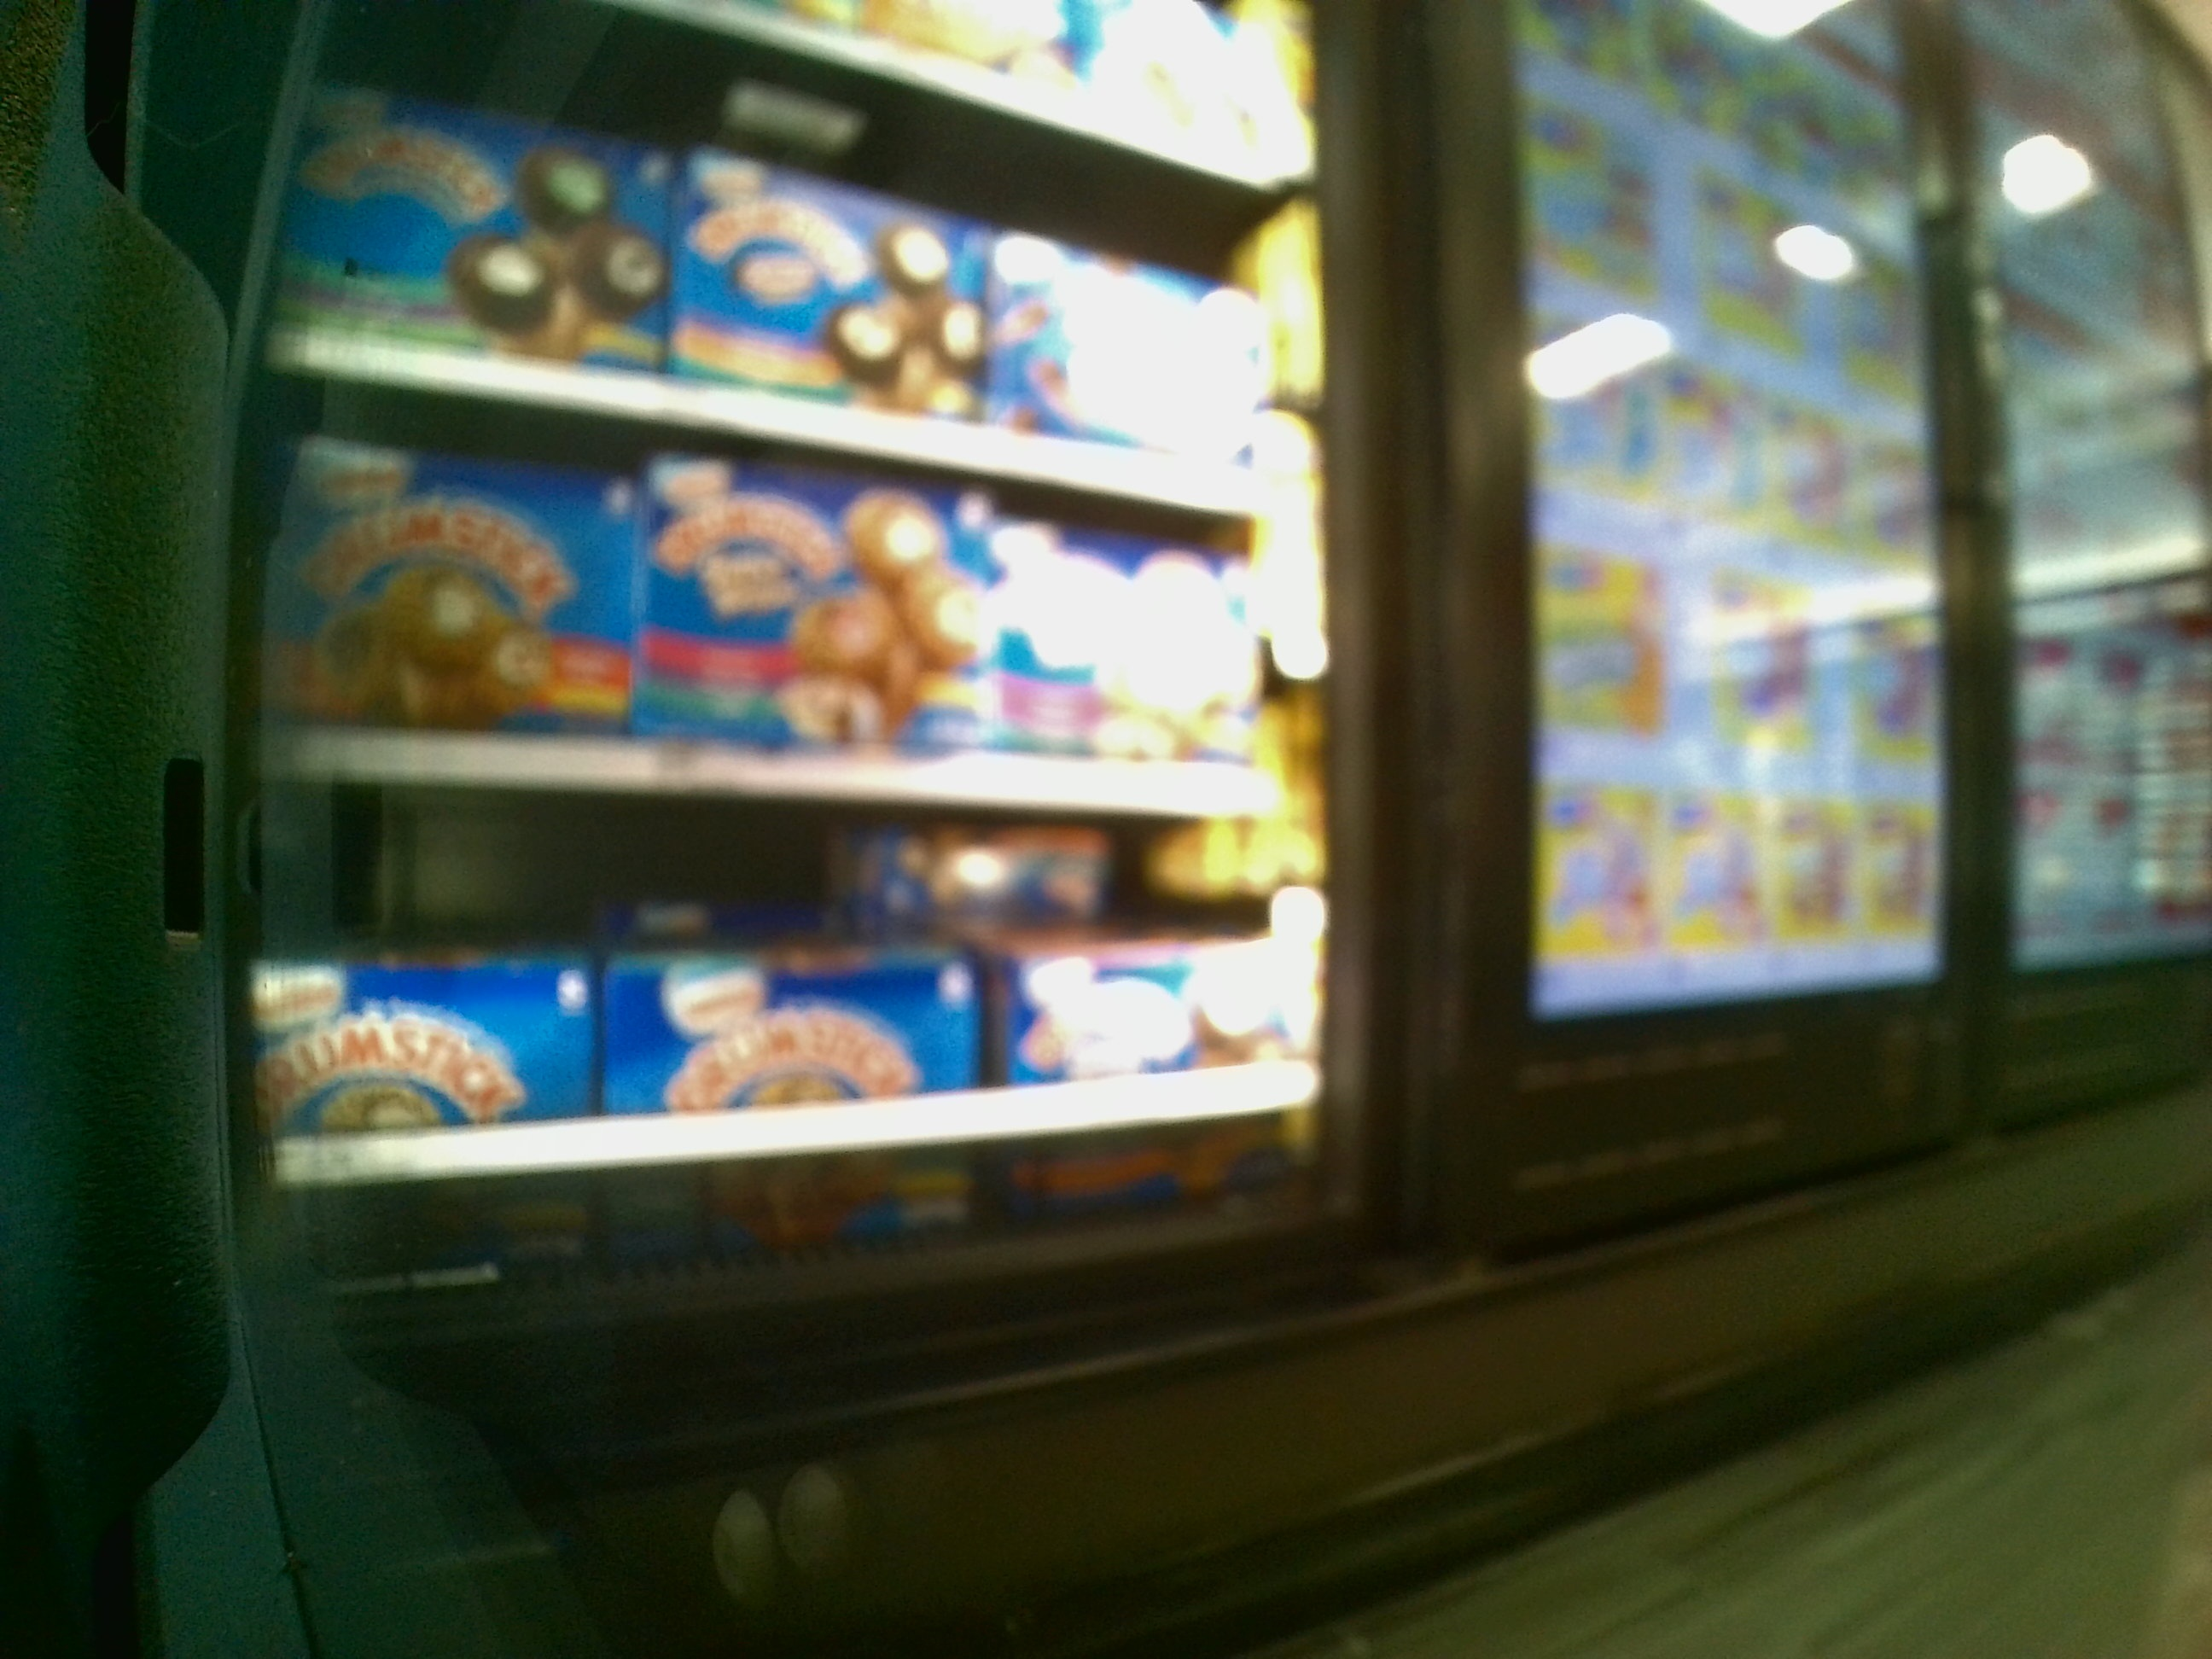shelf: (265, 810, 1322, 1169), (251, 458, 1329, 802)
